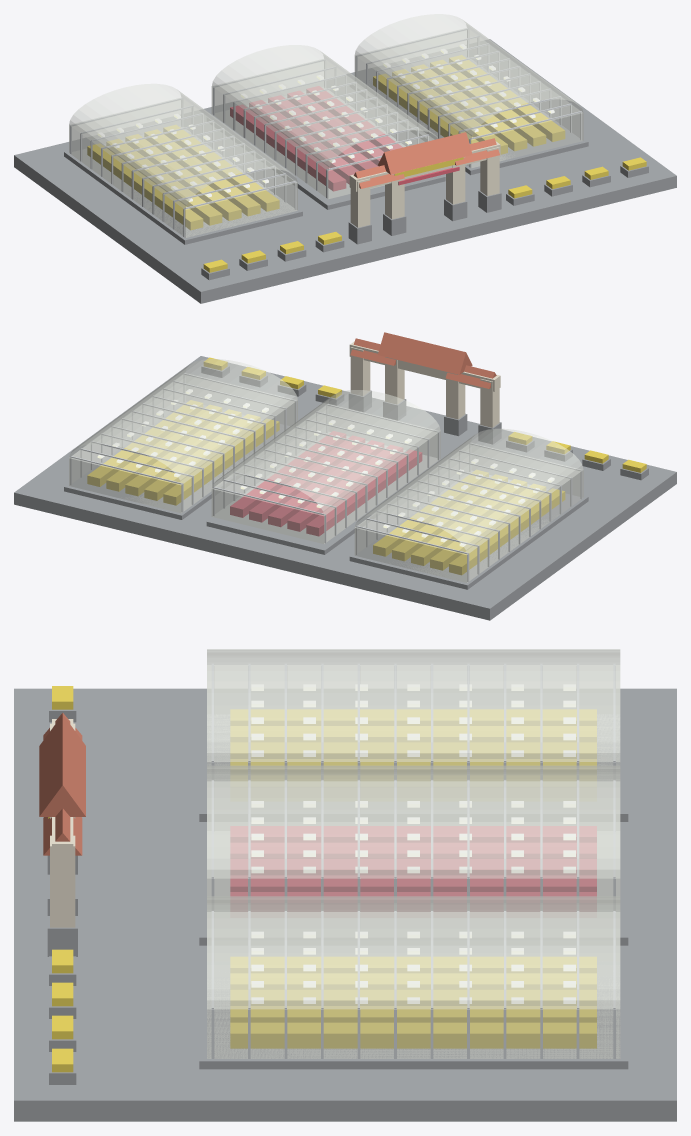
The model's file is lm_63_lang_hoa_ha_dong_heritage_rose_and_chrysanthemum_greenhouse_gate.glb.
3 views of the same model, one above another, from view 1: azimuth 30°, elevation 25°; view 2: azimuth 150°, elevation 25°; view 3: azimuth 270°, elevation 25° (orthographic). The views are drawn at different scales.
Visible parts, largest first — view 1: lm_63_lang_hoa_ha_dong_heritage_rose_and_chrysanthemum_green; view 2: lm_63_lang_hoa_ha_dong_heritage_rose_and_chrysanthemum_green; view 3: lm_63_lang_hoa_ha_dong_heritage_rose_and_chrysanthemum_green.
Part boxes in pixels (left/top/right/bottom): lm_63_lang_hoa_ha_dong_heritage_rose_and_chrysanthemum_green: left=14, top=14, right=676, bottom=303; lm_63_lang_hoa_ha_dong_heritage_rose_and_chrysanthemum_green: left=14, top=332, right=676, bottom=620; lm_63_lang_hoa_ha_dong_heritage_rose_and_chrysanthemum_green: left=14, top=649, right=676, bottom=1121.
Bounding box in the file's own units: 50 × 9.4 × 34.
